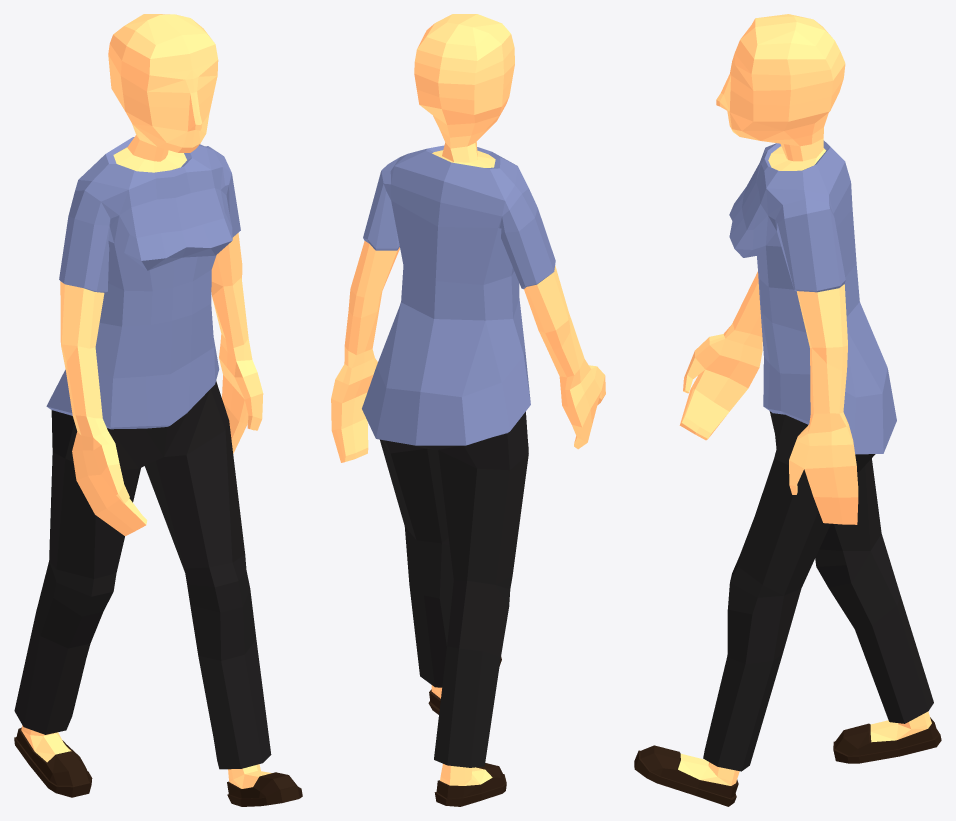
File: female_walking.glb
The picture shows the model from 3 angles, left to right: view 1: azimuth 30°, elevation 25°; view 2: azimuth 150°, elevation 25°; view 3: azimuth 270°, elevation 25°; orthographic projection. The views are drawn at different scales.
Parts seen in each view (by area): view 1: Female_Walking; view 2: Female_Walking; view 3: Female_Walking.
Part boxes in pixels (<box>): Female_Walking: <box>14,14,302,806</box>; Female_Walking: <box>331,14,605,806</box>; Female_Walking: <box>634,14,941,806</box>.
Size of the model in its own units: 0.5283 by 1.85 by 0.6751.
